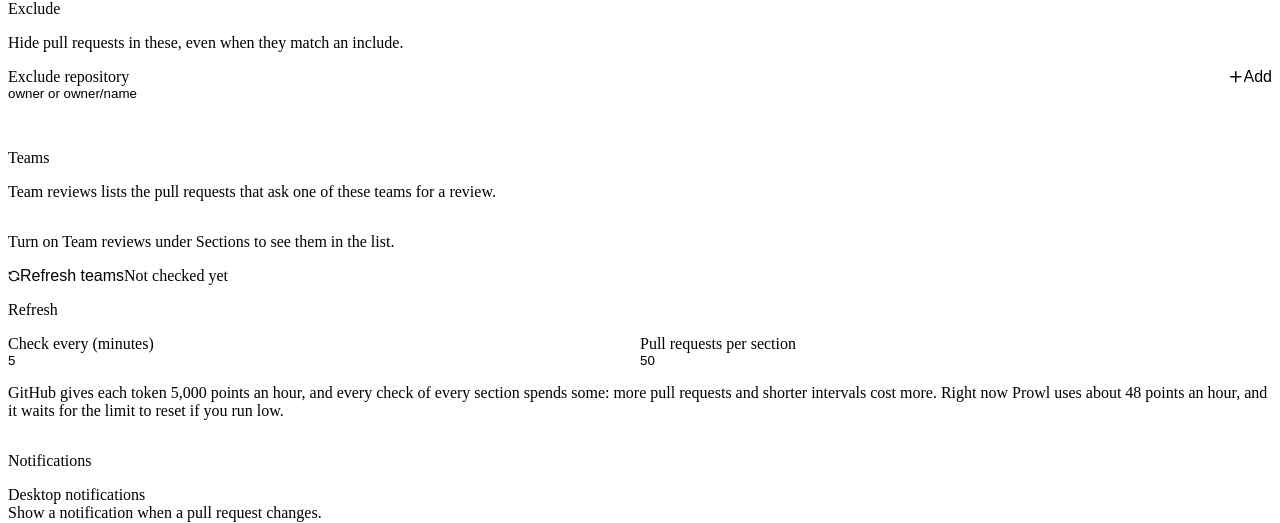
Test case: SettingsView › refresh › does not accept less than two minutes
(page scrolled)
Replace the text in the number field labelled "Check every (minutes)" with "1" at x=324, y=361, box [8, 353, 640, 368]
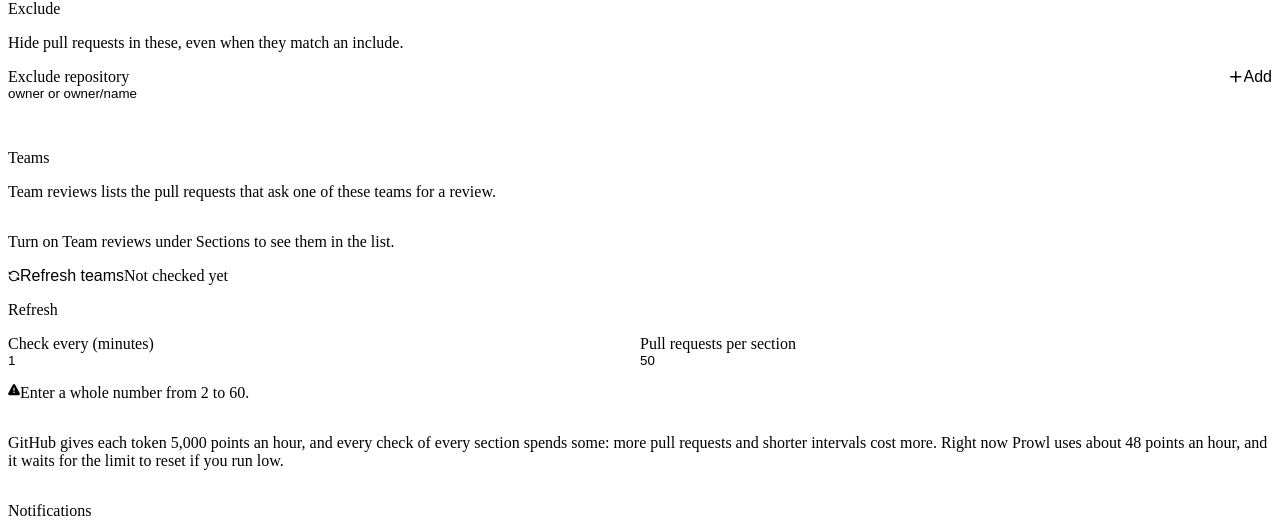
Check: the text "Enter a whole number from 2 to 60." is shown, box [8, 384, 249, 401]
